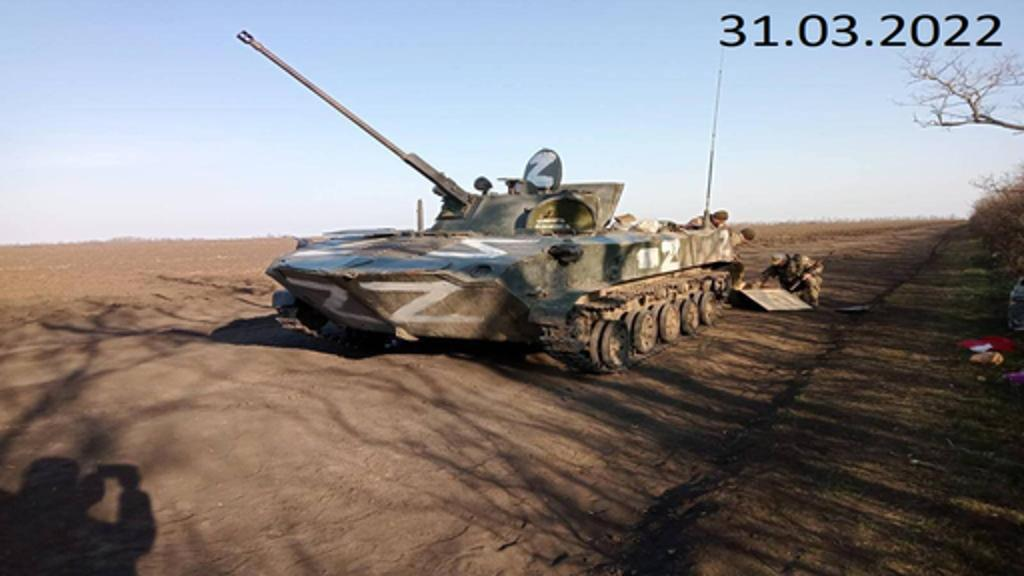APC-IFV: (234, 26, 754, 372)
